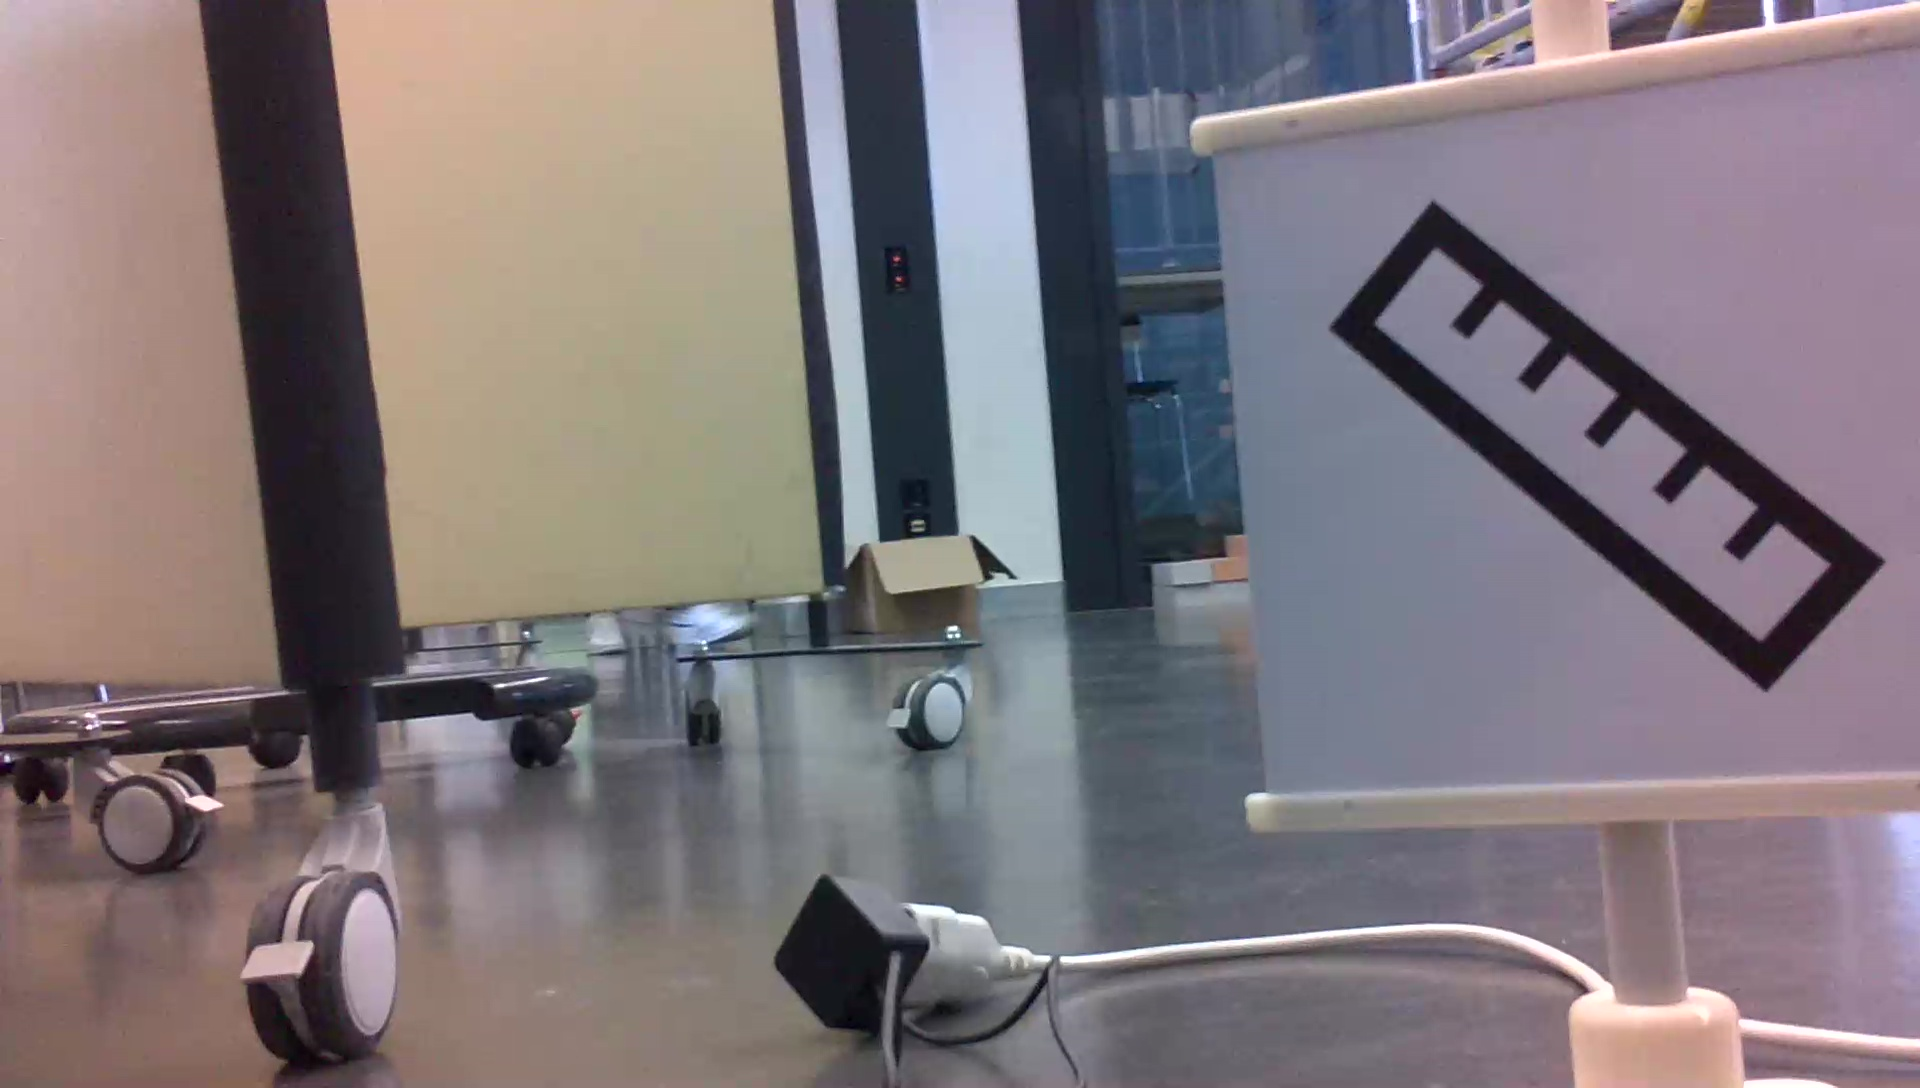ruler: (1323, 193, 1886, 702)
